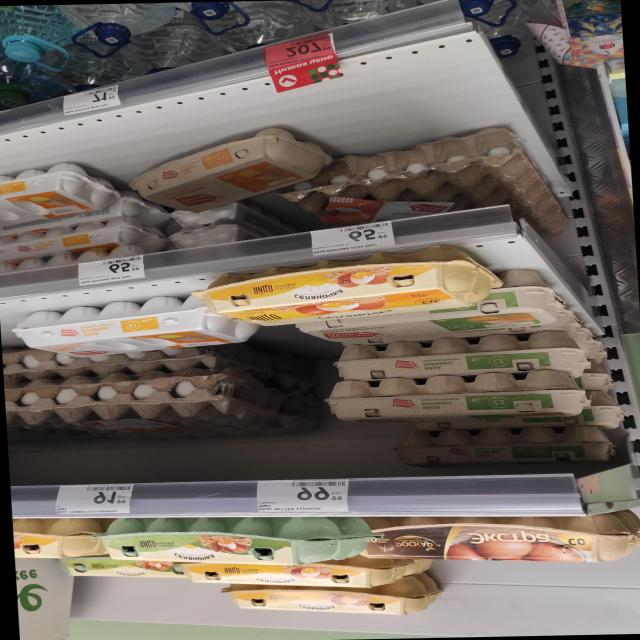organic waste: (190, 247, 503, 332), (122, 126, 339, 211), (368, 511, 639, 567), (102, 514, 374, 568), (10, 300, 252, 358), (327, 372, 588, 424), (330, 331, 590, 383), (390, 426, 619, 470), (12, 518, 103, 558)
